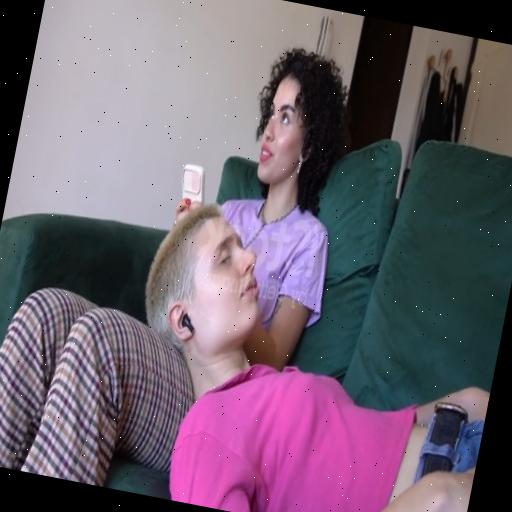earphone: (178, 312, 198, 341)
